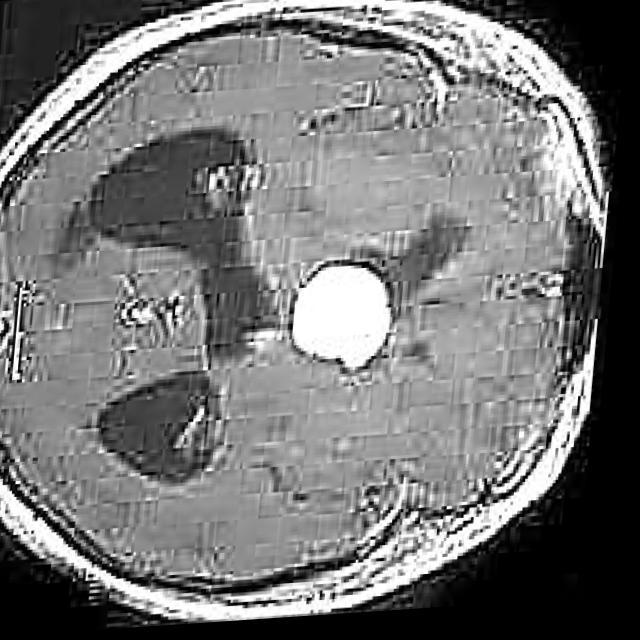Tumor: (286, 253, 394, 383)
